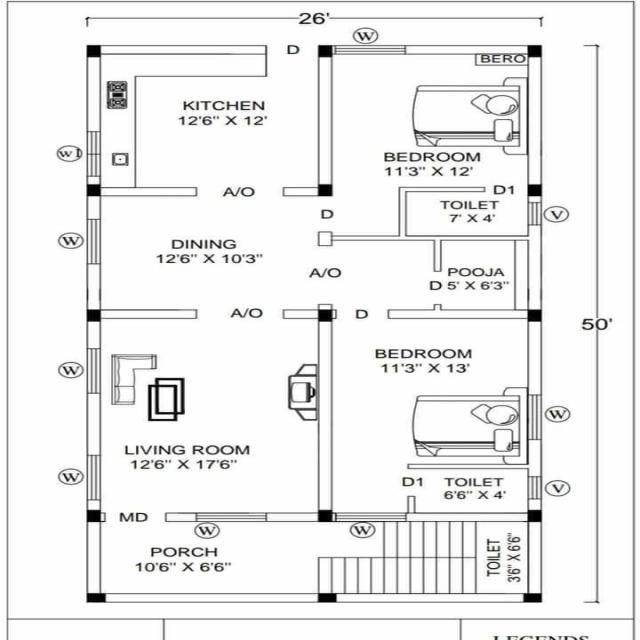column: (82, 591, 109, 605), (314, 308, 336, 325), (523, 182, 545, 198), (524, 308, 546, 324), (314, 508, 336, 524), (82, 509, 105, 524), (314, 182, 335, 198), (83, 308, 104, 324), (524, 44, 544, 60), (316, 43, 336, 59), (524, 508, 544, 524), (82, 43, 103, 58), (83, 183, 104, 198), (520, 592, 545, 604), (314, 592, 339, 604)
